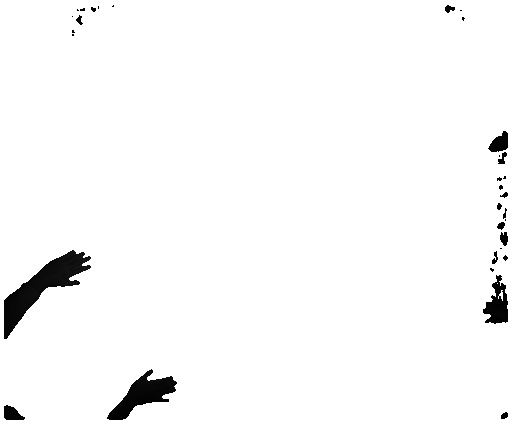hand: (43, 248, 95, 289), (131, 368, 183, 406)
